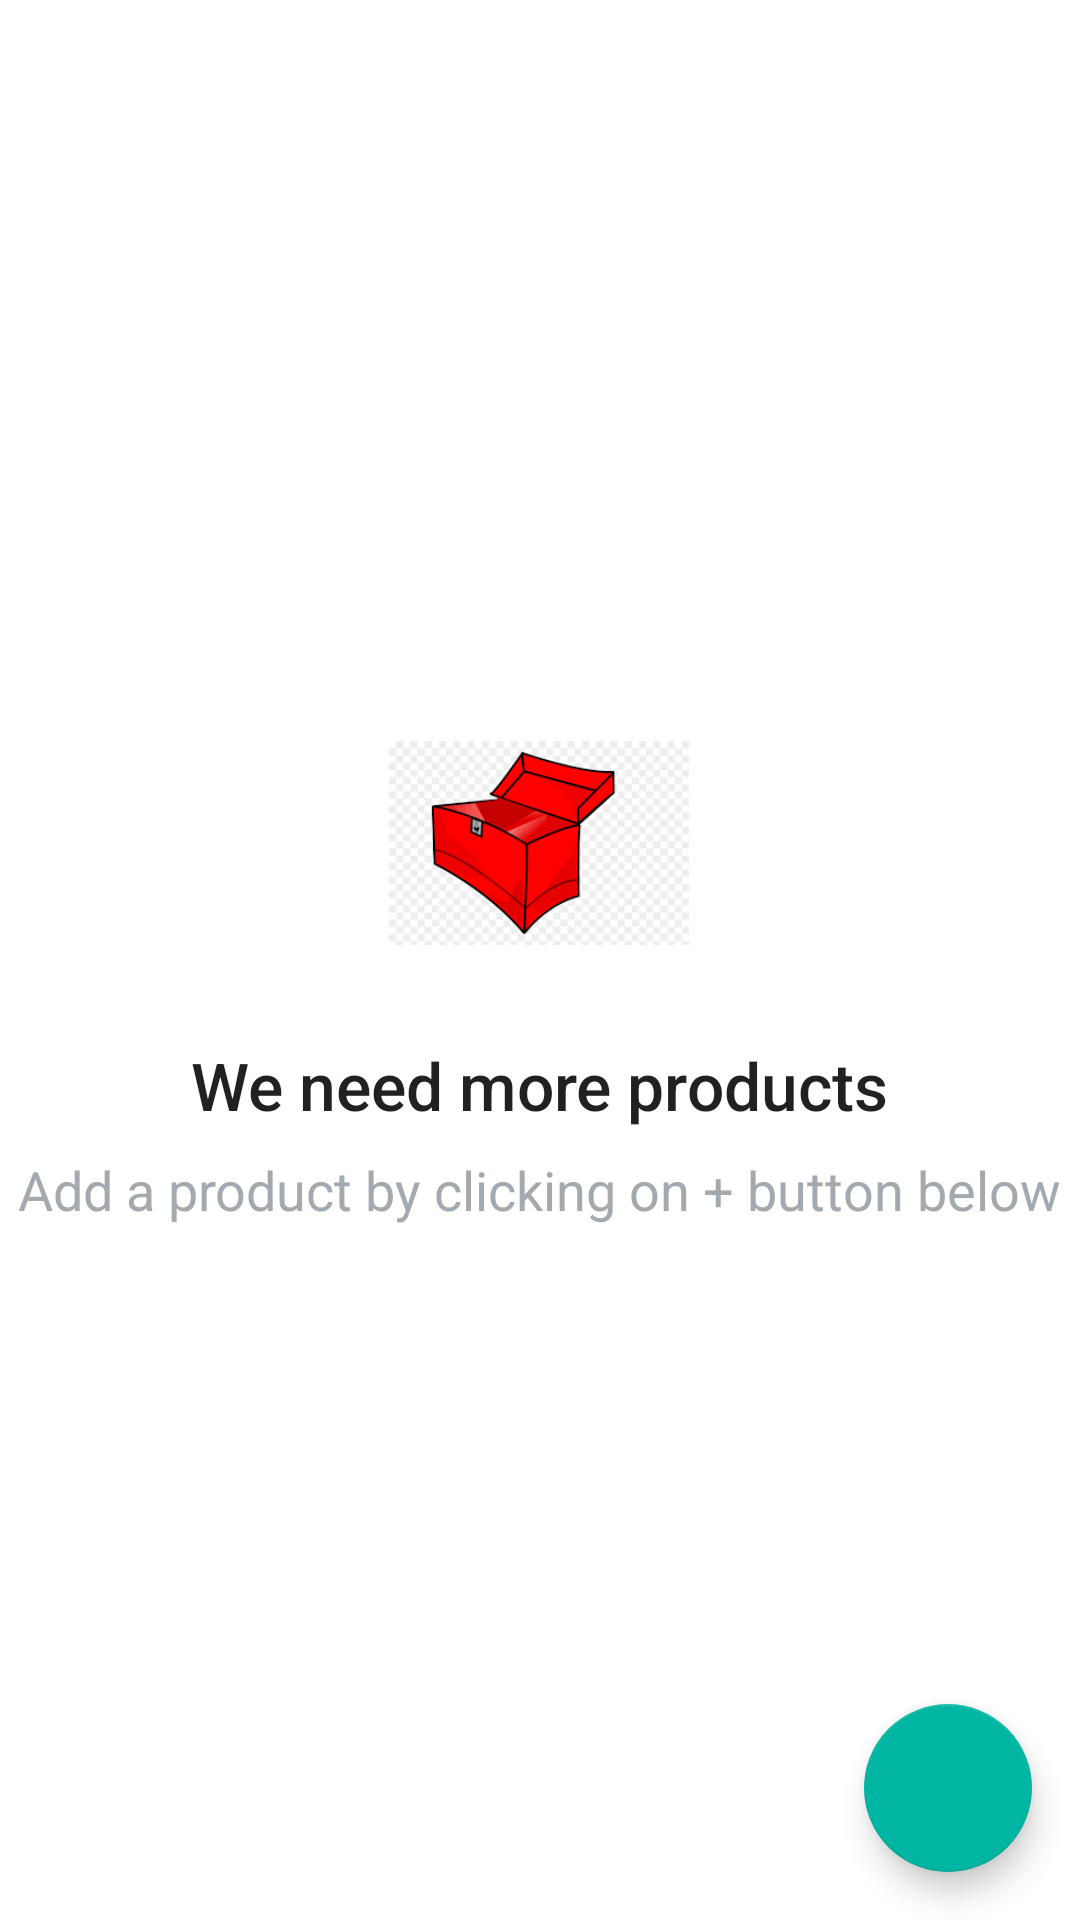

Where icons sit on this 1080×1920 app screen, as (x1, y1, x2, y2):
empty box: (431, 751, 616, 935)
